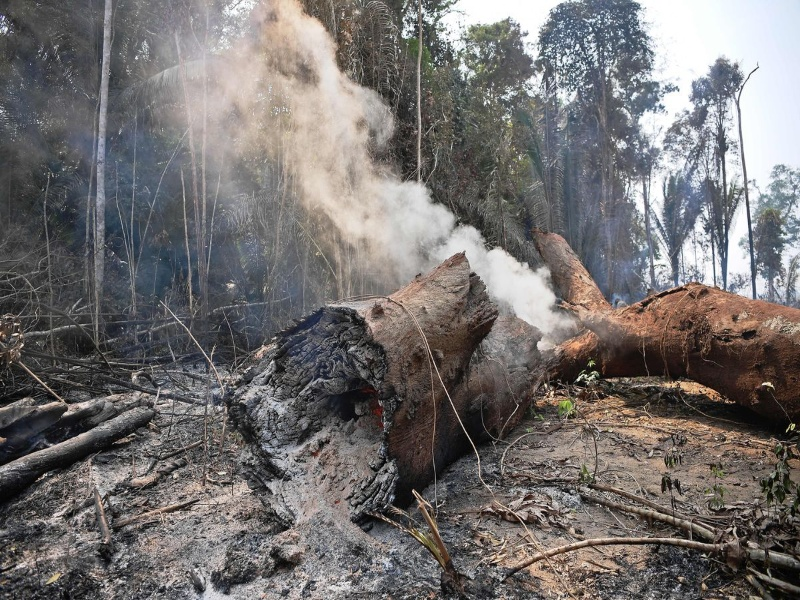smoke: (187, 3, 422, 279)
